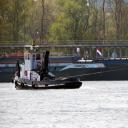tugboat: (12, 39, 84, 92)
